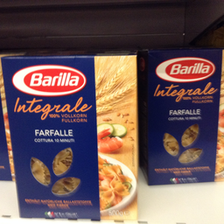pasta: (1, 50, 139, 220), (141, 49, 224, 186)
